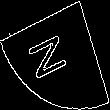N_E: (31, 27, 79, 83)
